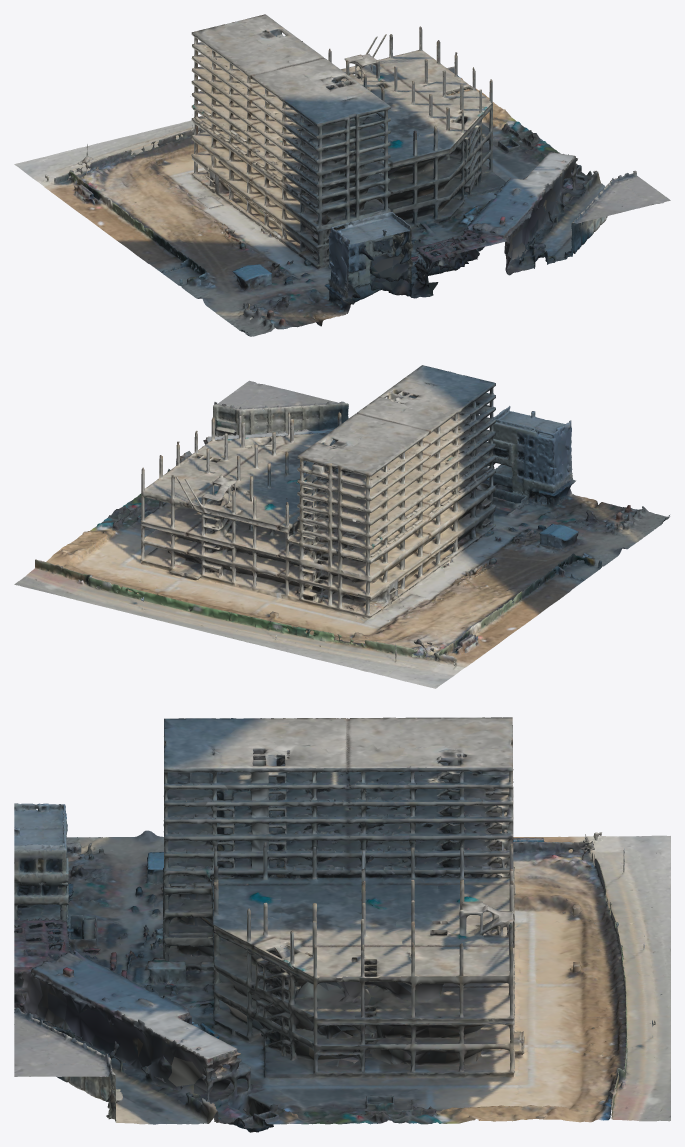
Rendered from construction_site.glb.
3 views of the same model, one above another, from view 1: azimuth 30°, elevation 25°; view 2: azimuth 150°, elevation 25°; view 3: azimuth 270°, elevation 25° (orthographic). The views are drawn at different scales.
Parts seen in each view (by area): view 1: Default; view 2: Default; view 3: Default.
Boxes of the visible parts, x1,y1,x2,y2 form: Default: [14, 14, 670, 336]; Default: [14, 365, 669, 688]; Default: [14, 717, 670, 1132].
Bounding box in the file's own units: 80.98 × 29.93 × 78.23.
1 material, 1 textured.
